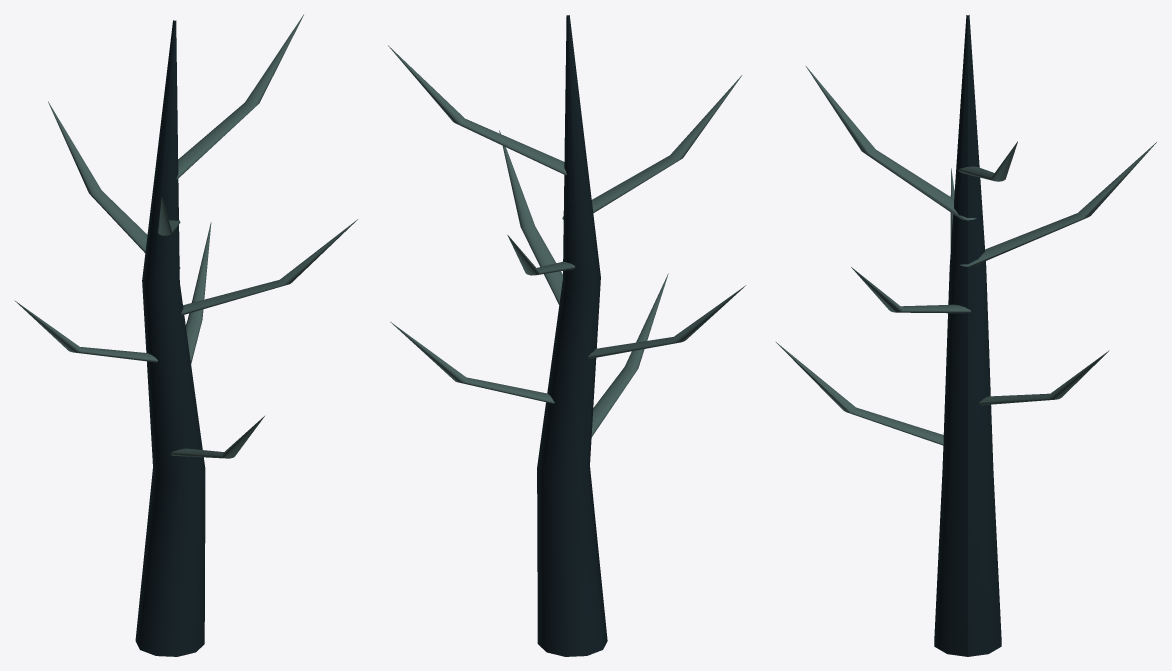
The model's file is prop_0_1.glb.
3 renders of one model, left to right at view 1: azimuth 30°, elevation 25°; view 2: azimuth 150°, elevation 25°; view 3: azimuth 270°, elevation 25°, orthographic.
Parts seen in each view (by area): view 1: TwistedTrunk, DeadBranch (×6); view 2: TwistedTrunk, DeadBranch (×7); view 3: TwistedTrunk, DeadBranch (×6).
Part boxes in pixels (x1,y1,x2,y2): TwistedTrunk: (135,20,205,656); DeadBranch (×6): (14,14,357,458); TwistedTrunk: (537,15,607,656); DeadBranch (×7): (388,45,745,436); TwistedTrunk: (934,15,1001,656); DeadBranch (×6): (776,66,1156,445).
Bounding box in the file's own units: 3.54 × 6.5 × 3.58.
